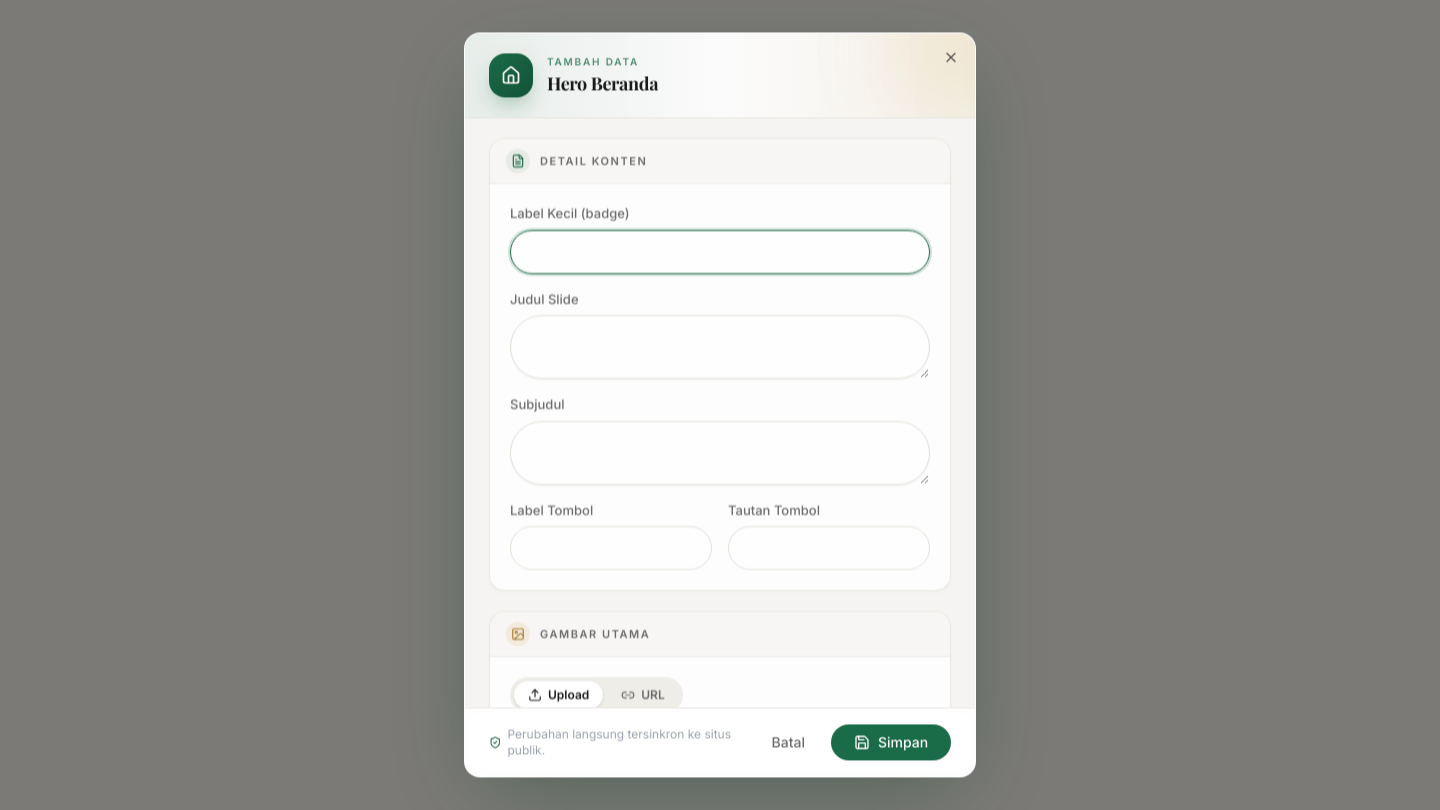
CrudFormDialog — validasi per kolom › menandai kolom kosong dan memfocus kolom pertama yang bermasalah
Click the button "Simpan": click(891, 743) [831,725,951,761]
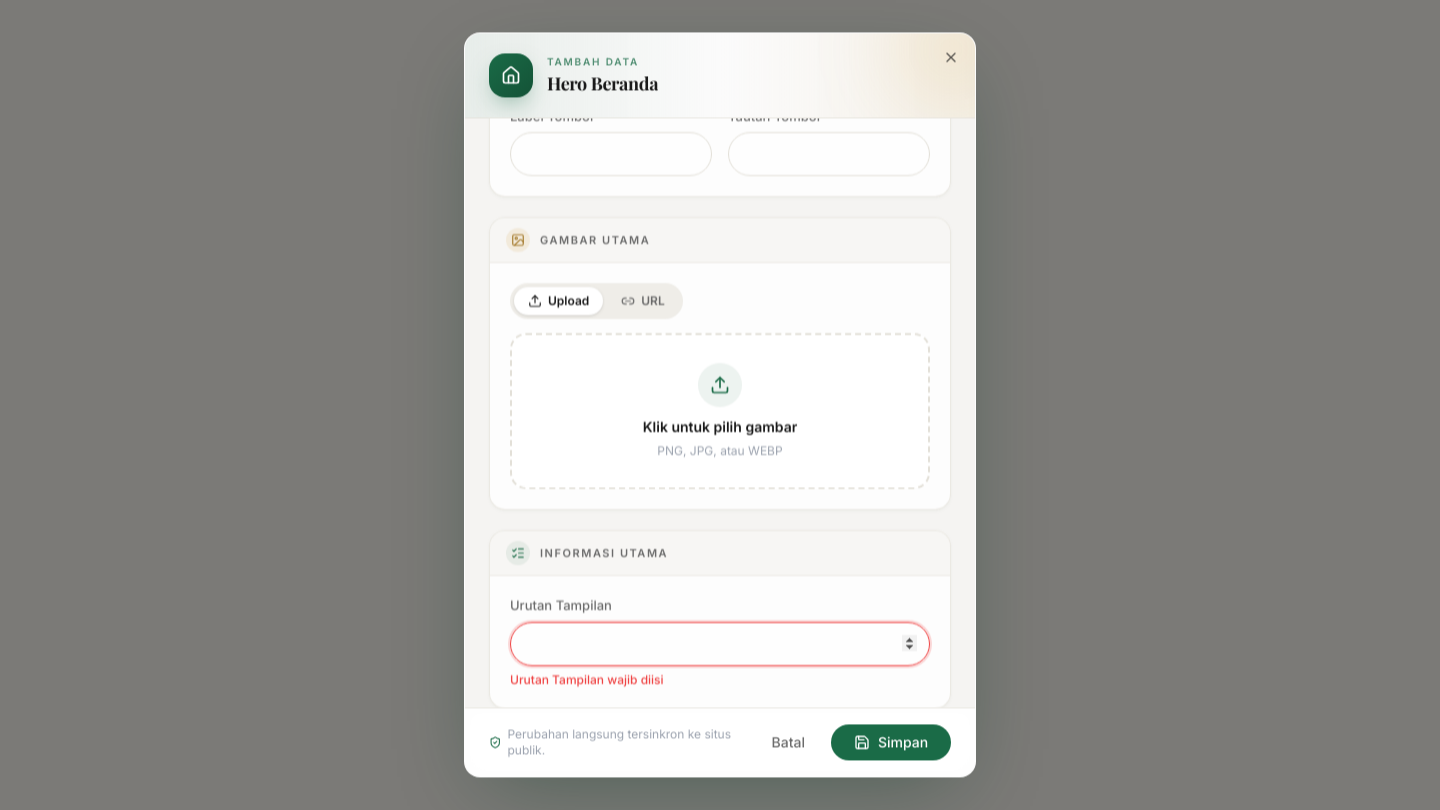
Result: the text "Urutan Tampilan wajib diisi" is shown at [510,672,664,687]
